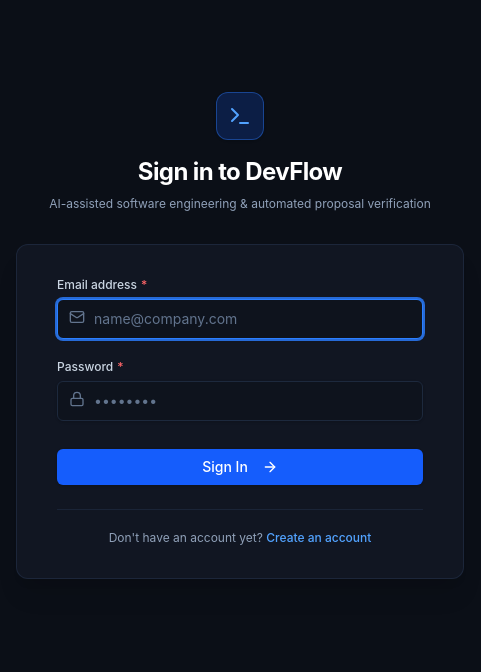
Test: LoginPage › displays user-friendly error message on backend 401 Unauthorized
Type "engineer@devflow.local" into the field labelled "Email address*" at (240, 318), box top-left (57, 298), bottom-right (423, 338)
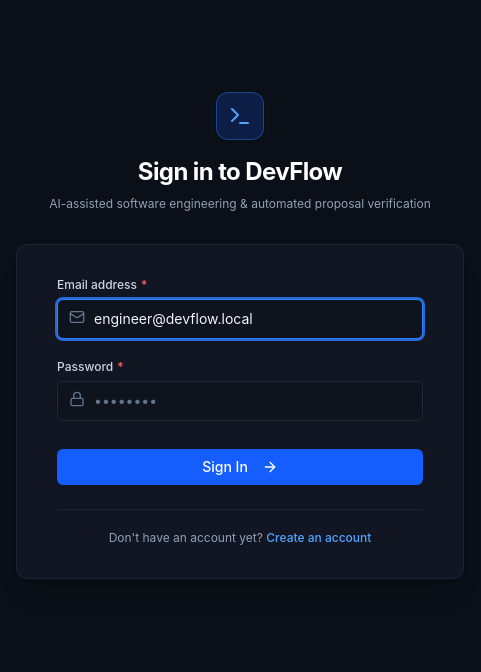
Type "wrongPassword" into the password field labelled "Password*" at (240, 400), box top-left (57, 380), bottom-right (423, 420)
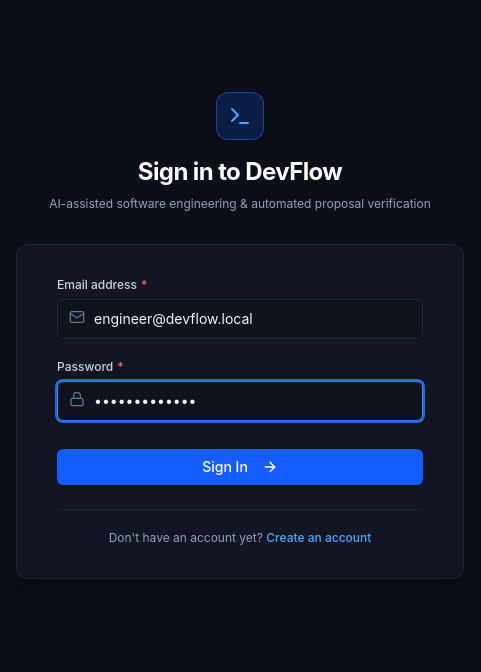
Click the button "Sign In" at (240, 466), box top-left (57, 448), bottom-right (423, 484)
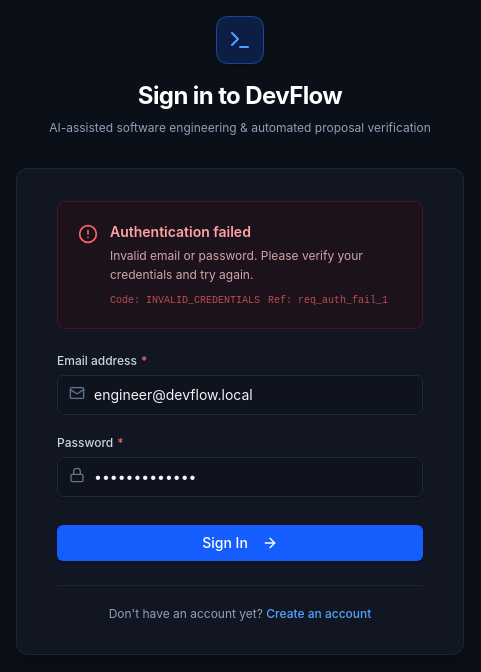
Check: the text "Invalid email or password. Please verify your credentials and try again." is shown, box top-left (110, 246), bottom-right (402, 284)
Check: the text "Code: INVALID_CREDENTIALS" is shown, box top-left (110, 292), bottom-right (260, 308)
Check: the text "Ref: req_auth_fail_1" is shown, box top-left (268, 292), bottom-right (388, 308)
